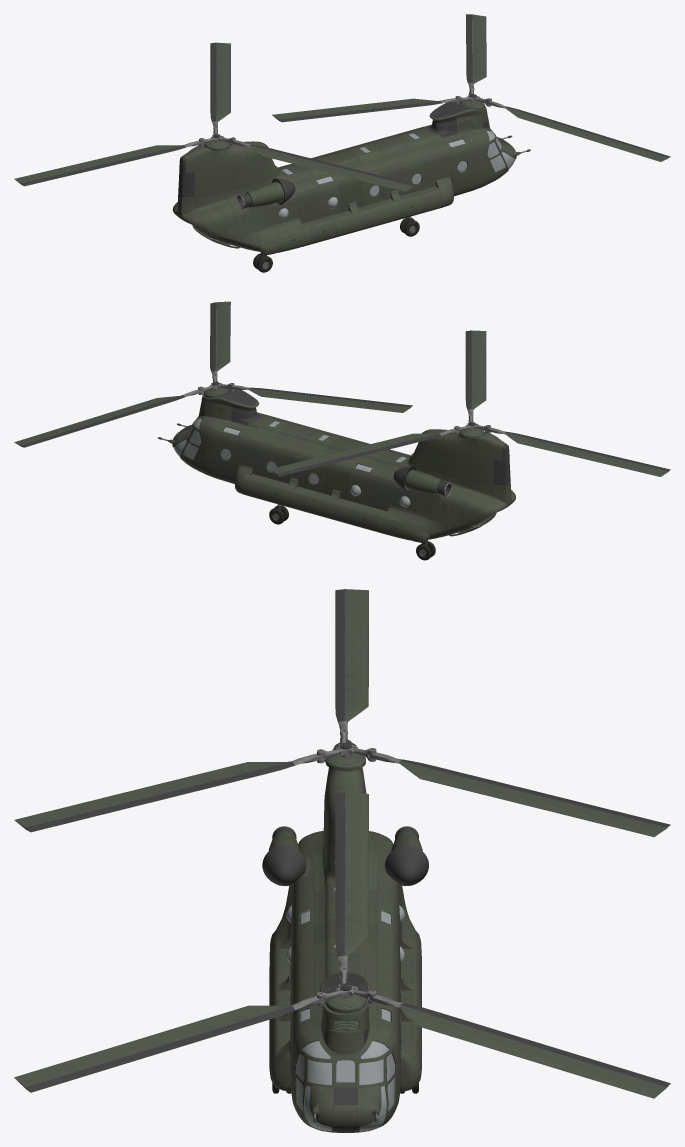
The model's file is chinook-lite.glb.
3 views of the same model, one above another, from view 1: azimuth 30°, elevation 25°; view 2: azimuth 150°, elevation 25°; view 3: azimuth 270°, elevation 25° (orthographic). The views are drawn at different scales.
Parts seen in each view (by area): view 1: Retopo_Cube.013, Cylinder.004, Cylinder.009, Retopo_Cube.017; view 2: Retopo_Cube.013, Cylinder.004, Cylinder.009, Retopo_Cube.017; view 3: Retopo_Cube.013, Cylinder.009, Cylinder.004, Retopo_Cube.017.
Part boxes in pixels (x1=…): Retopo_Cube.013: x1=172, y1=102, x2=530, y2=255; Cylinder.004: x1=14, y1=42, x2=414, y2=191; Cylinder.009: x1=272, y1=14, x2=670, y2=161; Retopo_Cube.017: x1=278, y1=131, x2=515, y2=219; Retopo_Cube.013: x1=157, y1=389, x2=515, y2=542; Cylinder.004: x1=270, y1=330, x2=670, y2=476; Cylinder.009: x1=14, y1=301, x2=412, y2=447; Retopo_Cube.017: x1=173, y1=418, x2=410, y2=507; Retopo_Cube.013: x1=262, y1=740, x2=428, y2=1132; Cylinder.009: x1=14, y1=793, x2=670, y2=1098; Cylinder.004: x1=14, y1=589, x2=670, y2=836; Retopo_Cube.017: x1=286, y1=887, x2=404, y2=1131.
Bounding box in the file's own units: 2621 × 576 × 1630.
2 materials, 1 textured.
